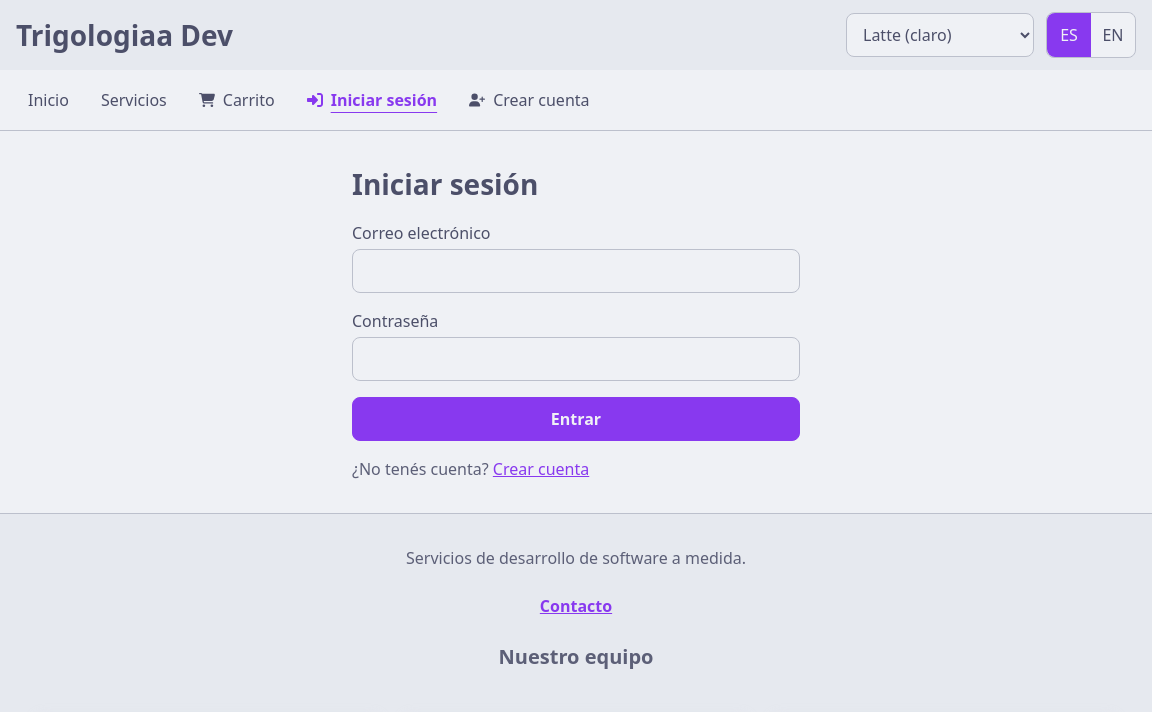
Test: LoginPage › signs in and goes home
Type "ana@example.com" into the field labelled "Correo electrónico".
click(576, 271); type("ana@example.com")  # box [352,249,800,293]
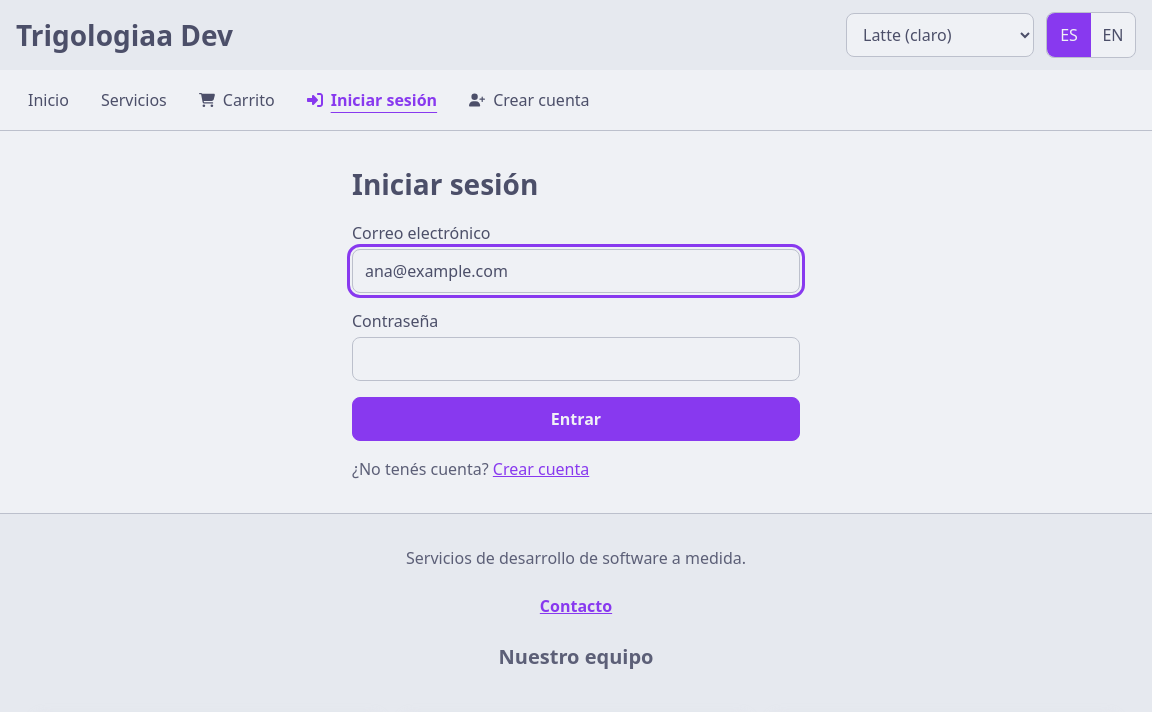
Type "secret1" into the password field labelled "Contraseña".
click(576, 359); type("secret1")  # box [352,337,800,381]
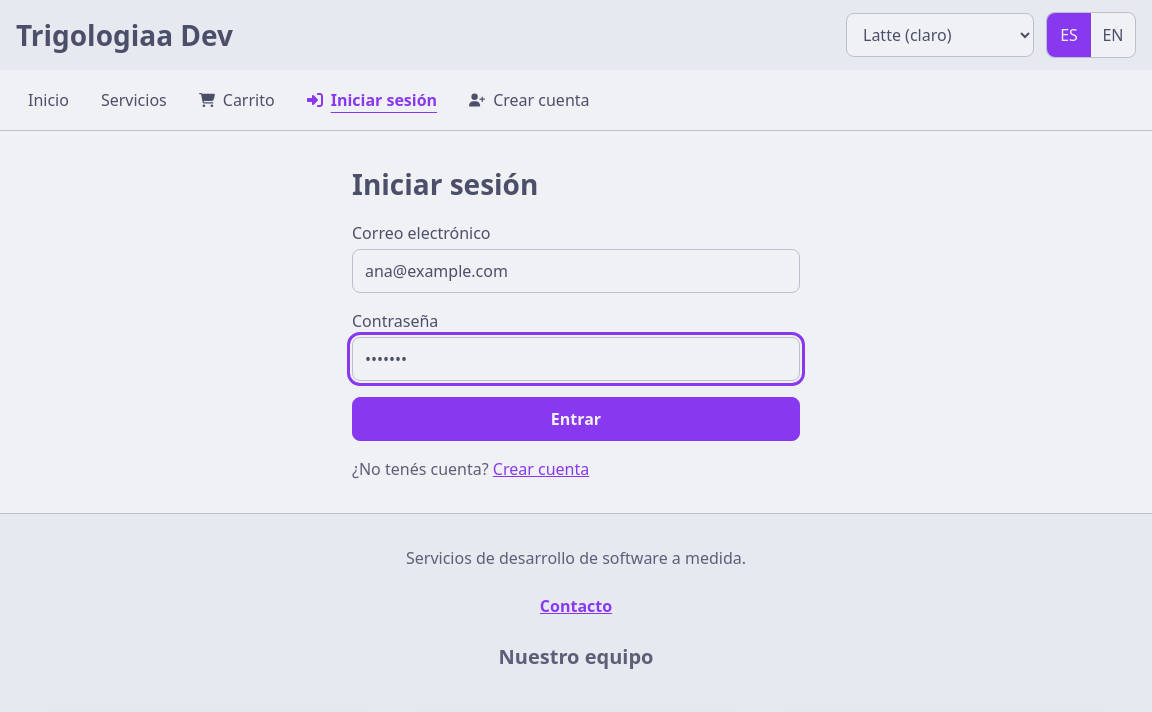
Click the button "Entrar".
click(576, 419)  # box [352,397,800,441]
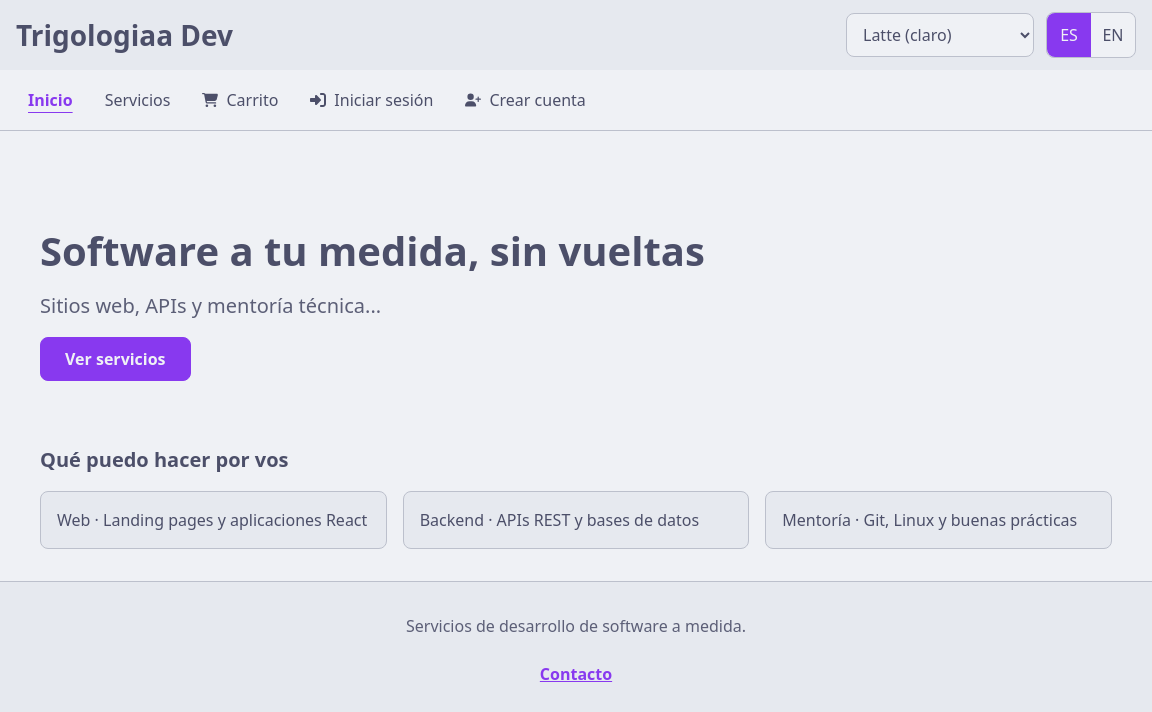
Expected: the heading "Software a tu medida, sin vueltas" is shown, [40,227,705,275]
